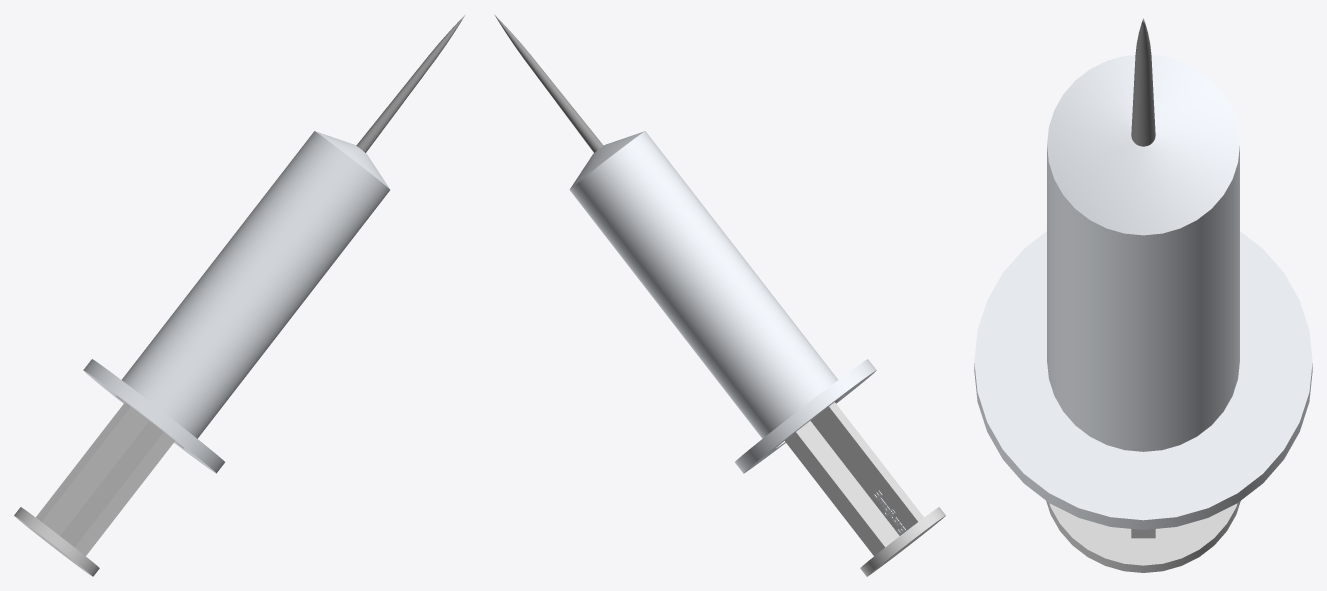
File: syringe.fbx
The picture shows the model from 3 angles, left to right: view 1: azimuth 30°, elevation 25°; view 2: azimuth 150°, elevation 25°; view 3: azimuth 270°, elevation 25°; orthographic projection. The views are drawn at different scales.
Visible parts, largest first — view 1: Circle.2600, Circle.2599; view 2: Circle.2600, Circle.2599; view 3: Circle.2600, Circle.2599.
Boxes of the visible parts, <box> form: Circle.2600: <box>83,131,390,473</box>; Circle.2599: <box>14,15,464,576</box>; Circle.2600: <box>569,131,876,473</box>; Circle.2599: <box>495,15,945,576</box>; Circle.2600: <box>974,55,1312,529</box>; Circle.2599: <box>1046,18,1240,572</box>.
Size of the model in its own units: 218 by 218 by 72.
Materials: 2 (1 with a texture image).
